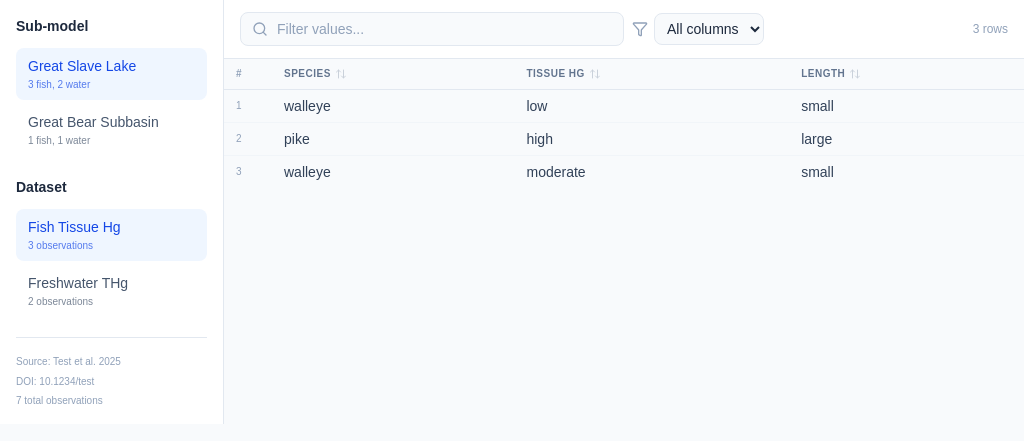
Test: BenchmarkDataViewer › sorts columns on click
Click the column heading "Species" at (307, 74), box [272,59,514,90]
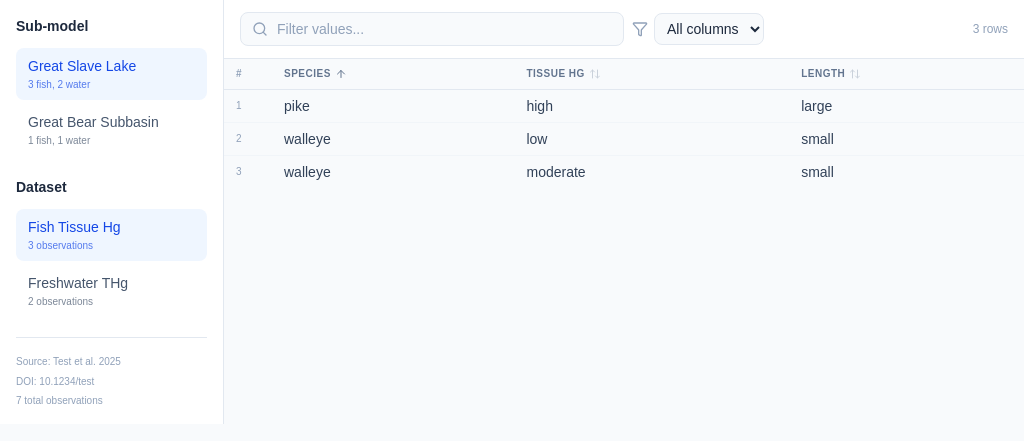
Check: the cell "pike" is shown, box [272,90,514,123]
